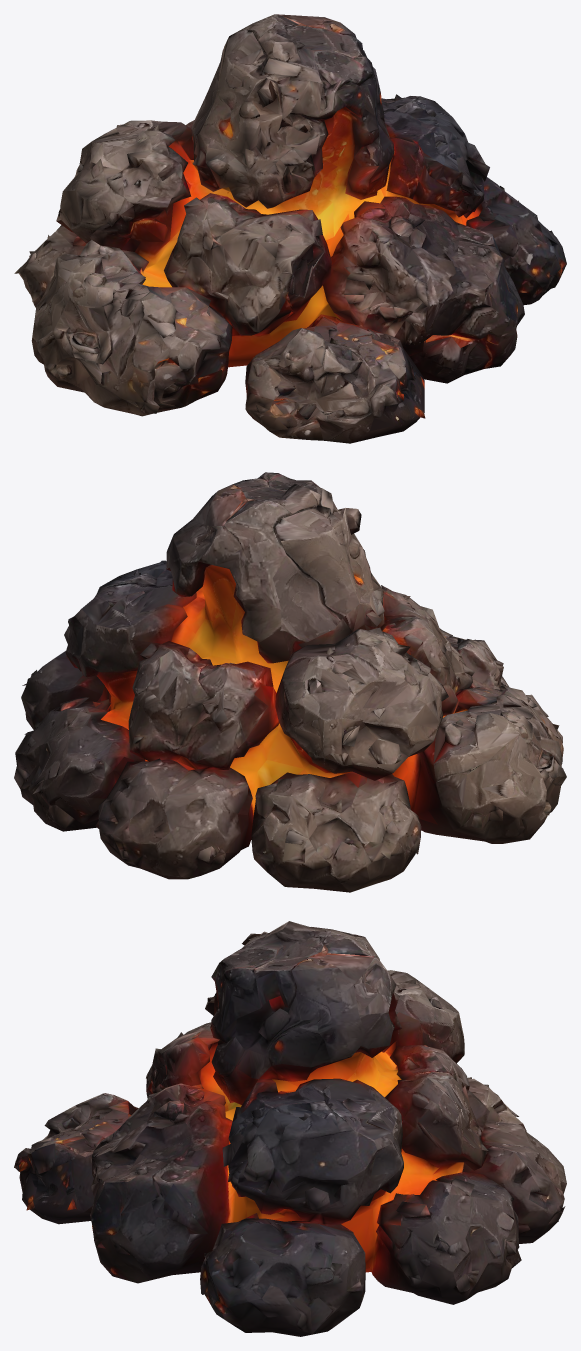
Rendered from f_lava_rock.glb.
The picture shows the model from 3 angles, top to bottom: view 1: azimuth 30°, elevation 25°; view 2: azimuth 150°, elevation 25°; view 3: azimuth 270°, elevation 25°; orthographic projection.
Parts seen in each view (by area): view 1: tripo_node_1e98c41f-4c46-4332-8d57-32970453ed39; view 2: tripo_node_1e98c41f-4c46-4332-8d57-32970453ed39; view 3: tripo_node_1e98c41f-4c46-4332-8d57-32970453ed39.
Part boxes in pixels (box(x1,y1,x2,y2)): tripo_node_1e98c41f-4c46-4332-8d57-32970453ed39: box(14, 14, 566, 443); tripo_node_1e98c41f-4c46-4332-8d57-32970453ed39: box(14, 472, 566, 892); tripo_node_1e98c41f-4c46-4332-8d57-32970453ed39: box(14, 921, 566, 1336).
Bounding box in the file's own units: 0.9784 × 0.5406 × 0.9333.
Materials: 1 (1 with a texture image).
